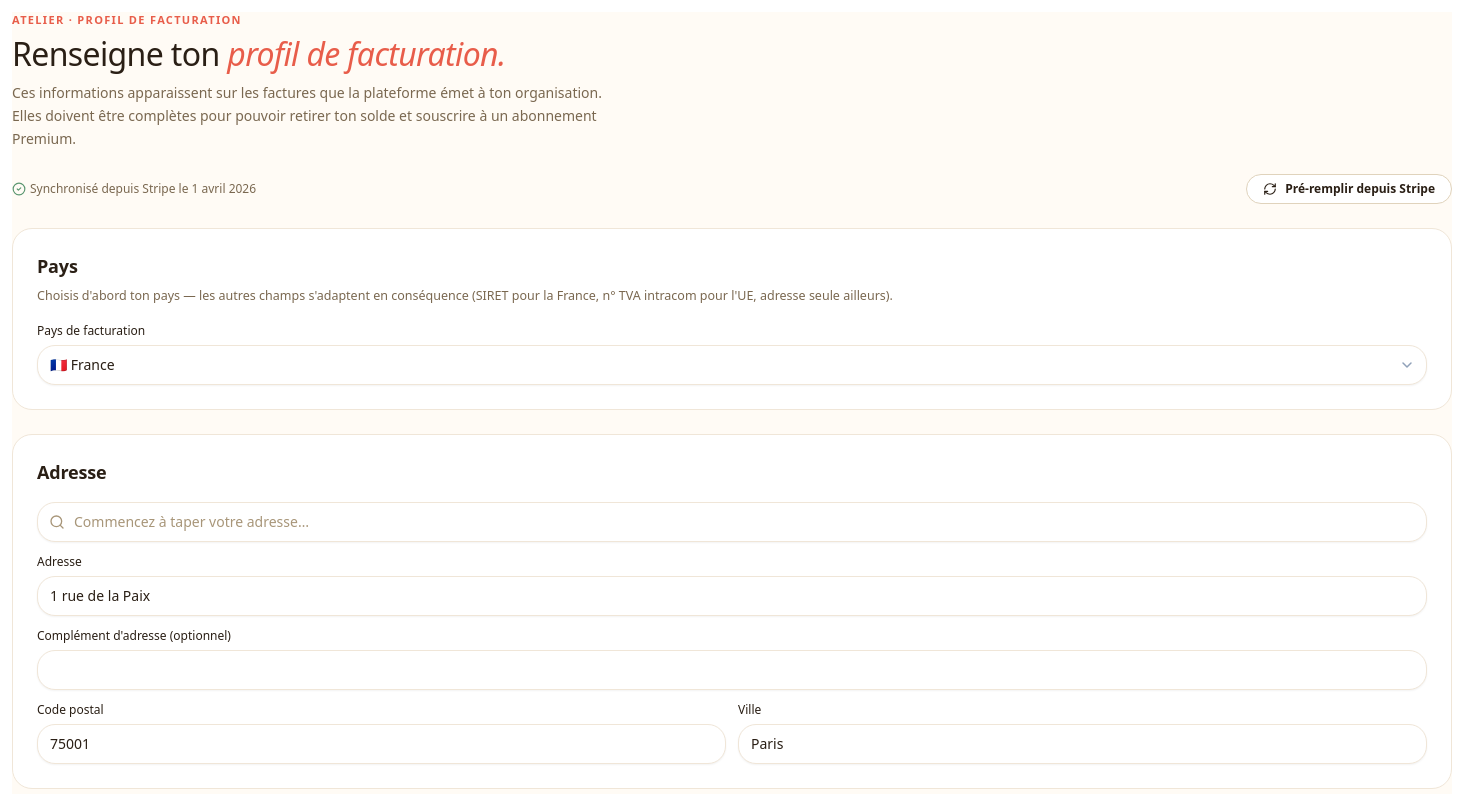
Test: BillingProfileForm › shows the sync error banner when sync fails
The width and height of the screenshot is (1464, 794).
Step 1. Click the button "Pré-remplir depuis Stripe" → (1349, 189), box [1246,174,1452,204]
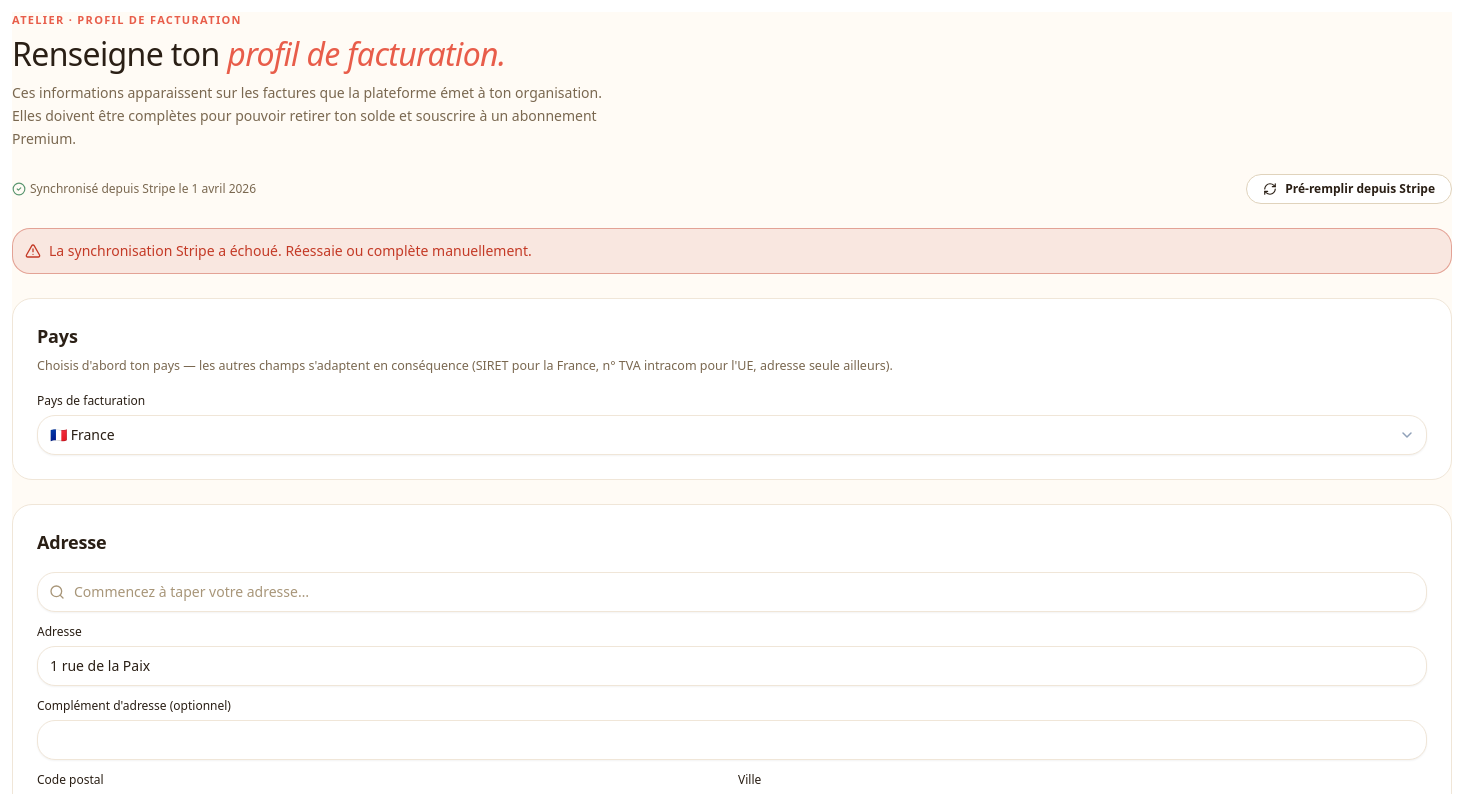
Expected: the text "La synchronisation Stripe a échoué" is shown, [49,241,532,260]
